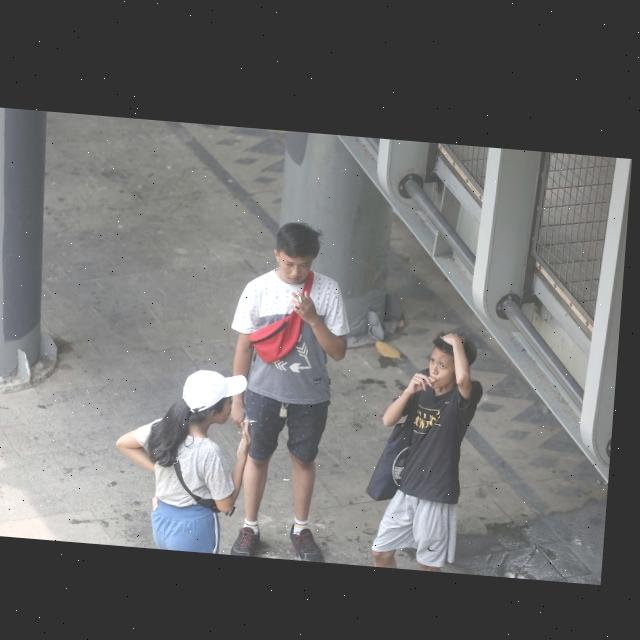cigarette: (250, 415, 263, 419), (302, 291, 306, 298)
